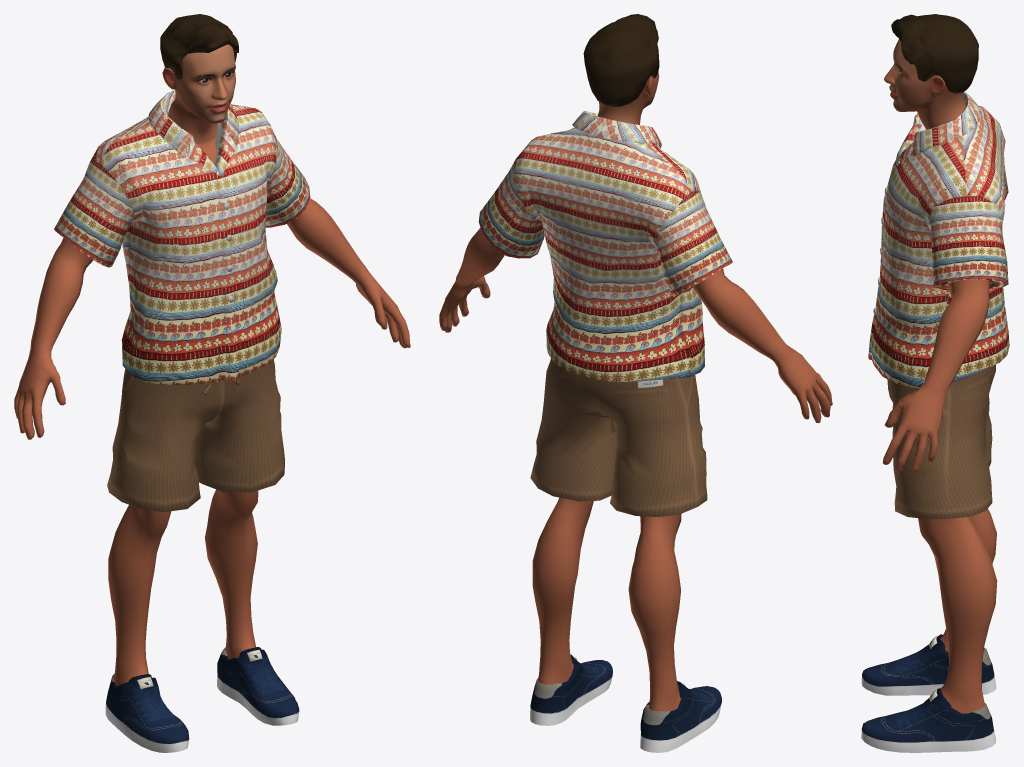
The model's file is hawaii.fbx.
3 renders of one model, left to right at view 1: azimuth 30°, elevation 25°; view 2: azimuth 150°, elevation 25°; view 3: azimuth 270°, elevation 25°, orthographic.
Visible parts, largest first — view 1: Wolf3D_Outfit_Top, Wolf3D_Body, Wolf3D_Outfit_Bottom, Wolf3D_Outfit_Footwear, Wolf3D_Head, Wolf3D_Hair; view 2: Wolf3D_Outfit_Top, Wolf3D_Body, Wolf3D_Outfit_Bottom, Wolf3D_Outfit_Footwear, Wolf3D_Hair, Wolf3D_Head; view 3: Wolf3D_Outfit_Top, Wolf3D_Body, Wolf3D_Outfit_Bottom, Wolf3D_Outfit_Footwear, Wolf3D_Hair, Wolf3D_Head.
Part boxes in pixels (x1,y1,x2,y2): Wolf3D_Outfit_Top: (54, 90, 310, 385); Wolf3D_Body: (14, 137, 410, 686); Wolf3D_Outfit_Bottom: (107, 359, 284, 512); Wolf3D_Outfit_Footwear: (105, 647, 299, 752); Wolf3D_Head: (162, 44, 235, 144); Wolf3D_Hair: (160, 14, 238, 79); Wolf3D_Outfit_Top: (478, 111, 732, 382); Wolf3D_Body: (439, 228, 832, 711); Wolf3D_Outfit_Bottom: (530, 358, 707, 516); Wolf3D_Outfit_Footwear: (530, 654, 721, 752); Wolf3D_Hair: (583, 14, 659, 106); Wolf3D_Head: (597, 71, 659, 124); Wolf3D_Outfit_Top: (868, 92, 1009, 387); Wolf3D_Body: (882, 279, 997, 713); Wolf3D_Outfit_Bottom: (884, 364, 995, 519); Wolf3D_Outfit_Footwear: (861, 634, 996, 752); Wolf3D_Hair: (891, 14, 978, 93); Wolf3D_Head: (884, 39, 966, 129).
Size of the model in its own units: 106 by 185 by 35.55.
